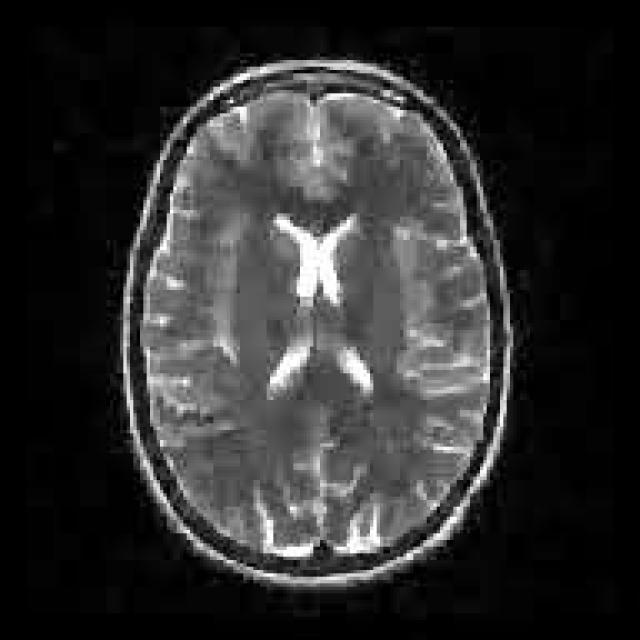no-tumor: (185, 146, 447, 486)
